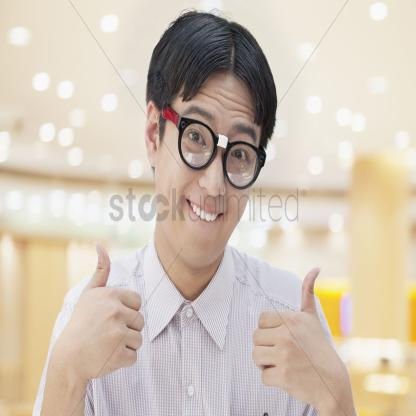Thumbs-Up: (252, 263, 342, 406), (70, 245, 144, 374)
